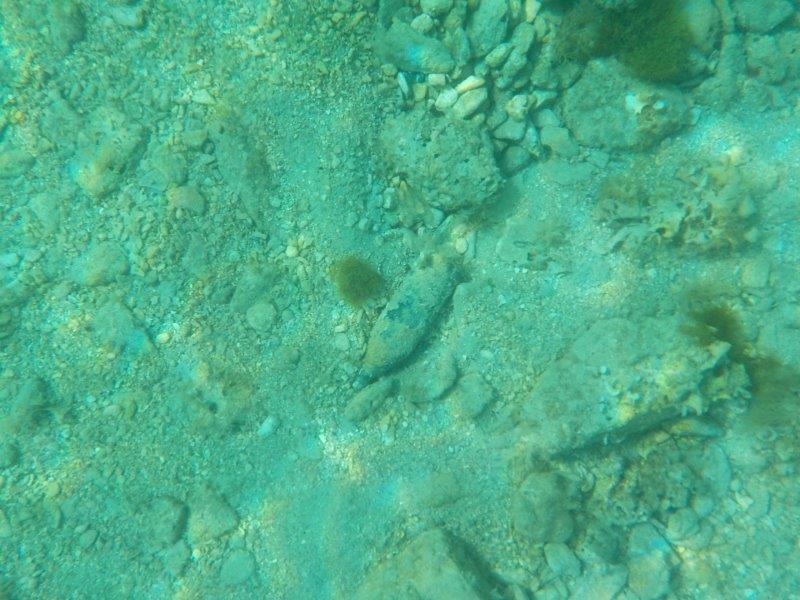bottle: (345, 247, 465, 393)
